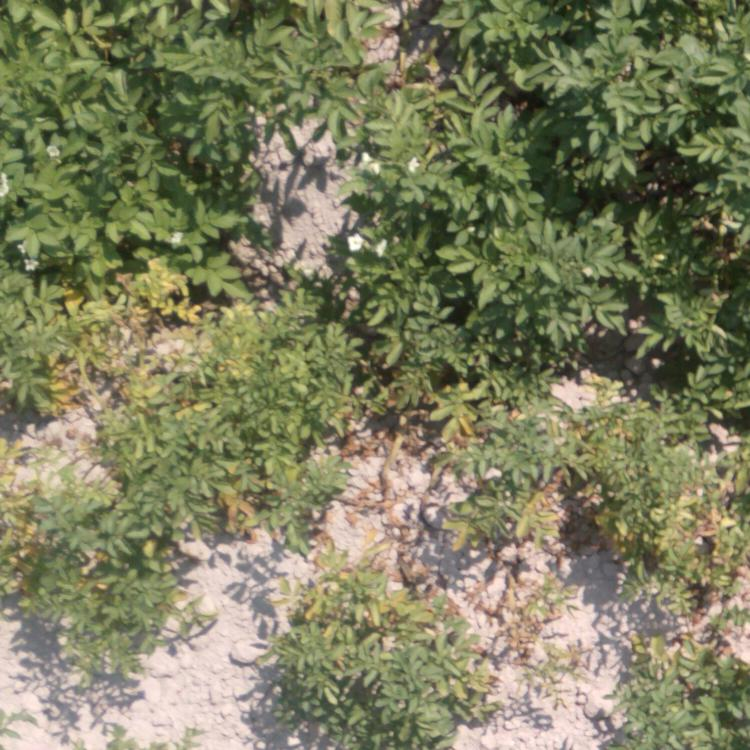healthy: (530, 5, 737, 347), (2, 1, 195, 242), (354, 4, 524, 272), (209, 1, 335, 187), (313, 283, 521, 358)
stressed: (251, 572, 486, 748), (2, 425, 168, 671), (574, 375, 740, 606), (362, 375, 553, 546), (1, 251, 141, 417), (185, 388, 332, 512), (147, 258, 294, 374), (615, 621, 733, 742)
